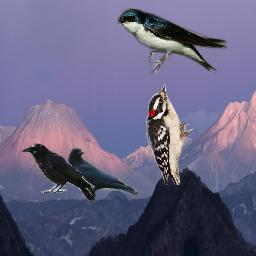Crow: (68, 146, 140, 205), (21, 143, 95, 200)
Swallow: (117, 8, 231, 76)
Woodpecker: (146, 84, 193, 185)
